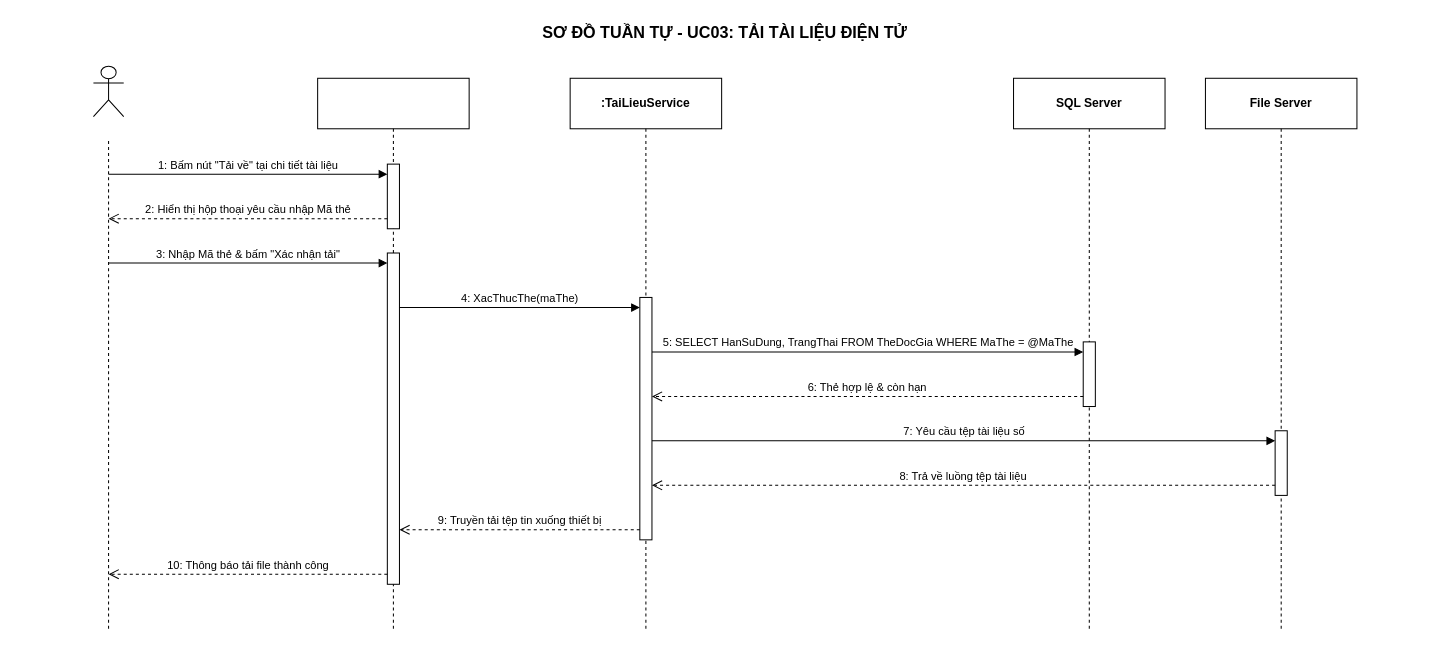
This 1449x647 diagram has some shape labels left out. Here are the shapes that lost their labels. From the top down, the box of each, then its label:
(92, 65, 124, 117): Độc giả
(317, 77, 469, 629): :FrmTaiLieu
